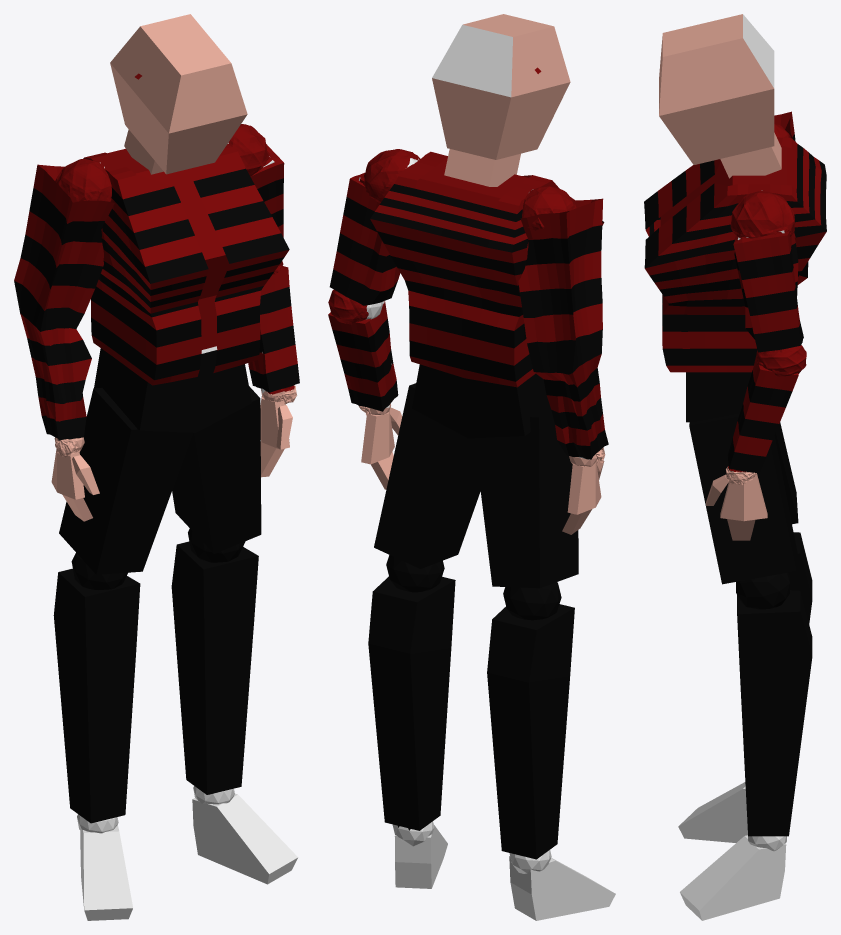
The model's file is Player.fbx.
3 views of the same model, side by side, from view 1: azimuth 30°, elevation 25°; view 2: azimuth 150°, elevation 25°; view 3: azimuth 270°, elevation 25° (orthographic). The views are drawn at different scales.
Parts seen in each view (by area): view 1: Cube.009; view 2: Cube.009; view 3: Cube.009.
Boxes of the visible parts, x1,y1,x2,y2 form: Cube.009: (14, 14, 299, 920); Cube.009: (328, 14, 615, 920); Cube.009: (644, 14, 826, 920).
Bounding box in the file's own units: 5.01 × 16.23 × 3.19.
